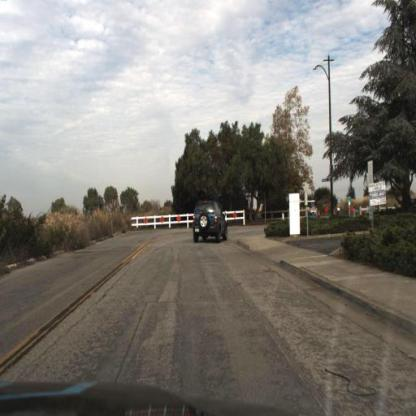car: (193, 200, 227, 244)
